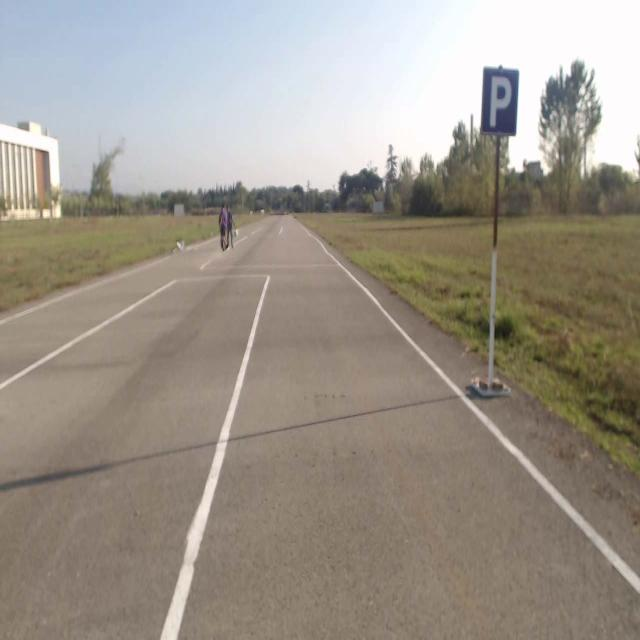park: (482, 67, 516, 136)
